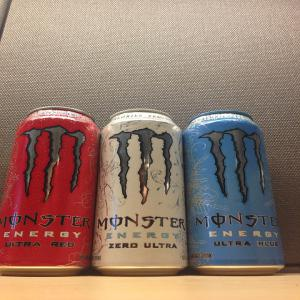Can: (2, 106, 101, 280), (184, 109, 286, 277), (94, 108, 188, 276)
